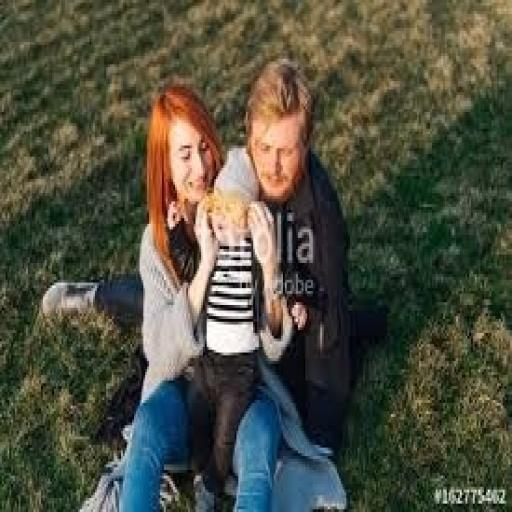hugging: (39, 53, 359, 509)
